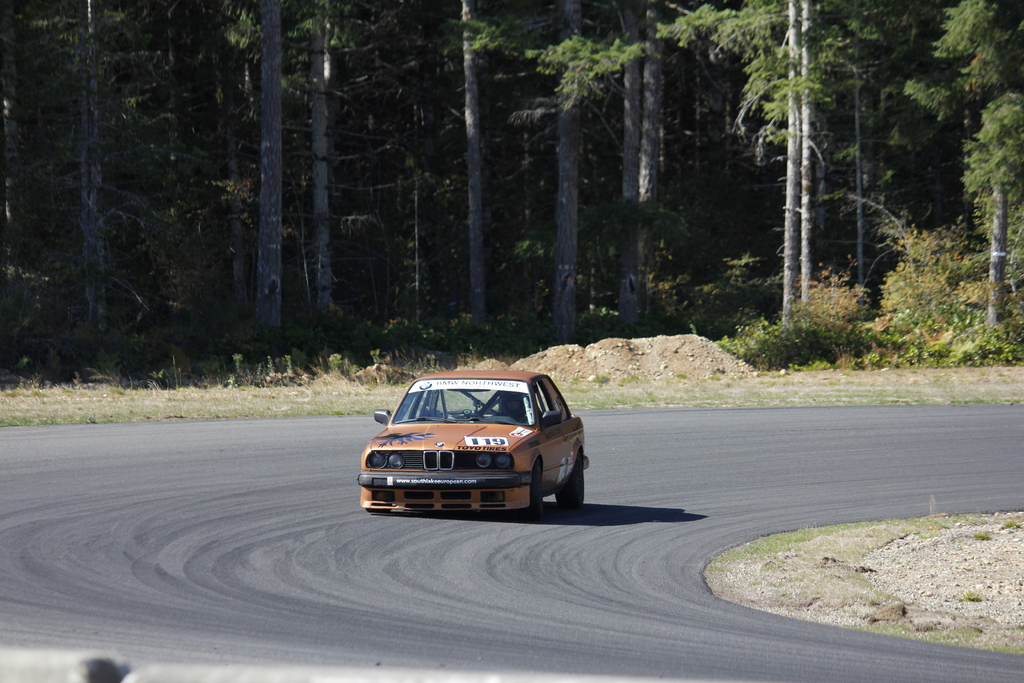Car: (356, 370, 588, 522)
